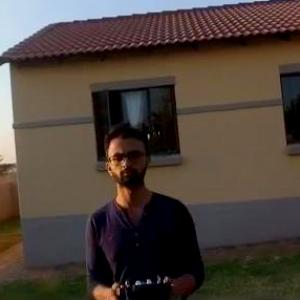follow: (79, 118, 208, 299)
